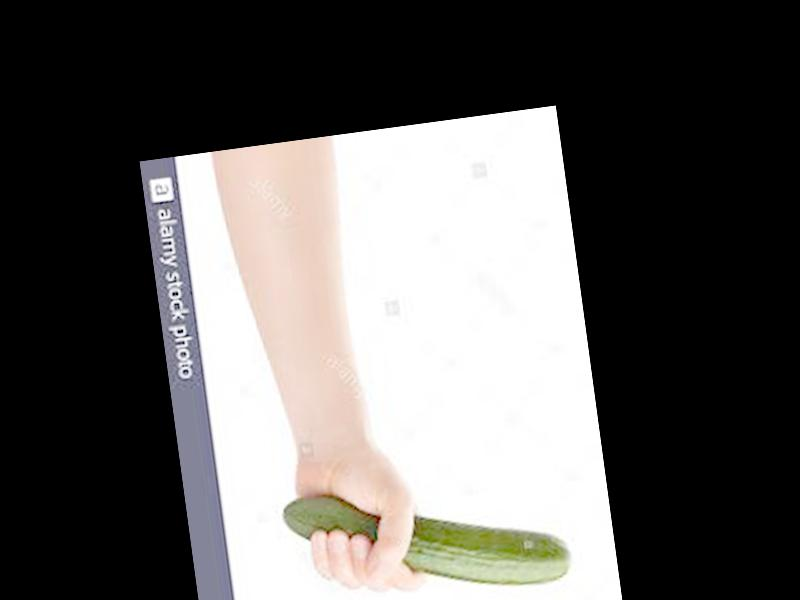Cucumber: (282, 465, 572, 600)
